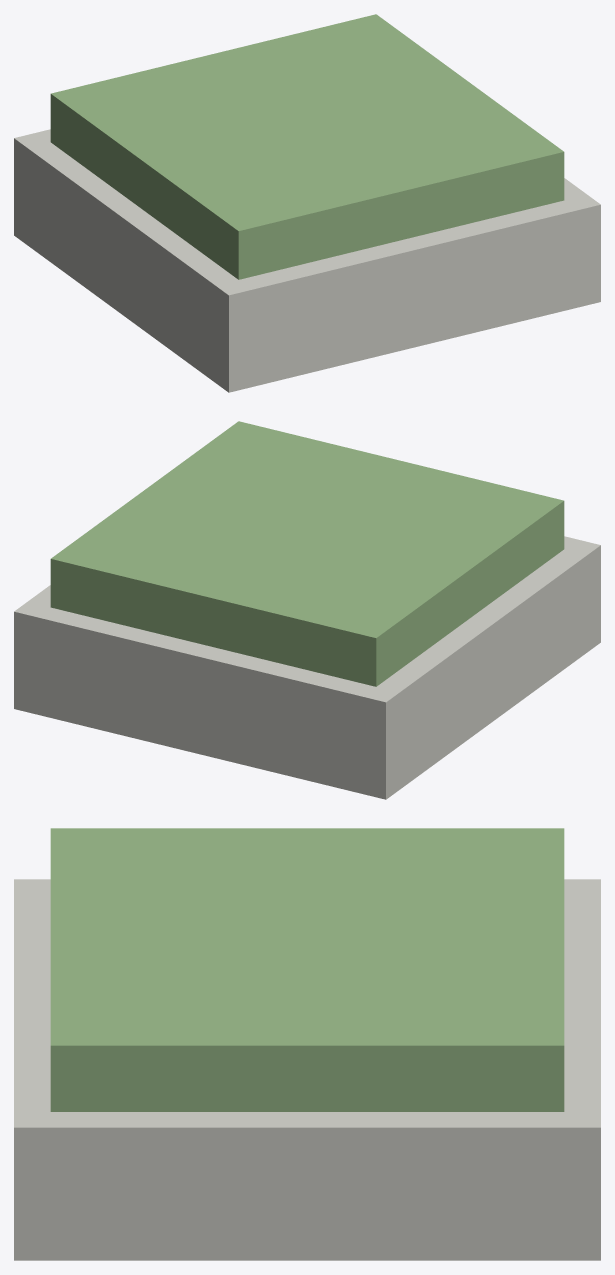
Rendered from prop_planter_large.glb.
The picture shows the model from 3 angles, top to bottom: view 1: azimuth 30°, elevation 25°; view 2: azimuth 150°, elevation 25°; view 3: azimuth 270°, elevation 25°; orthographic projection. The views are drawn at different scales.
Parts seen in each view (by area): view 1: prop_planter_large-col; view 2: prop_planter_large-col; view 3: prop_planter_large-col.
Boxes of the visible parts, bbox=[...] form: prop_planter_large-col: bbox=[14, 14, 600, 392]; prop_planter_large-col: bbox=[14, 421, 600, 799]; prop_planter_large-col: bbox=[14, 828, 600, 1260].
Size of the model in its own units: 2 by 0.75 by 2.
